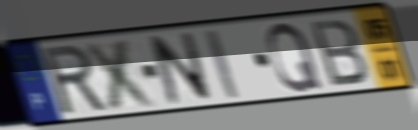B: (307, 17, 371, 89)
I: (201, 26, 242, 102)
N: (146, 30, 215, 107)
Q: (265, 20, 325, 95)
R: (38, 42, 111, 118)
X: (80, 36, 162, 112)
